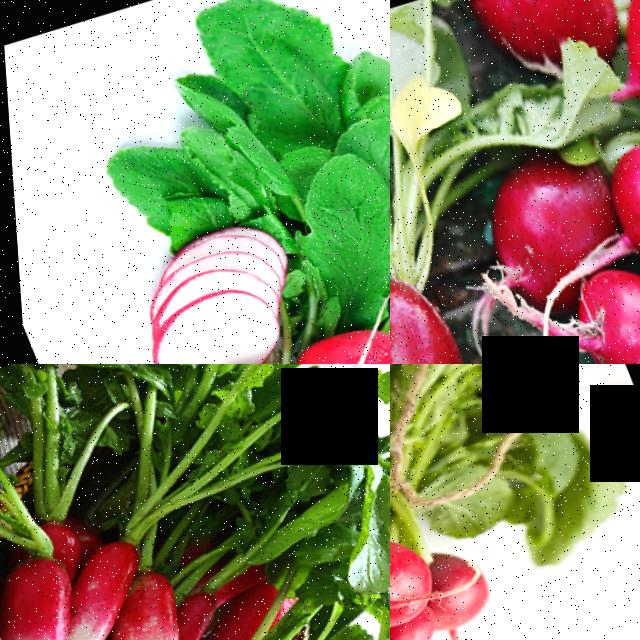radishes: (0, 415, 340, 640), (443, 90, 640, 364), (390, 364, 581, 640), (390, 121, 517, 364)
